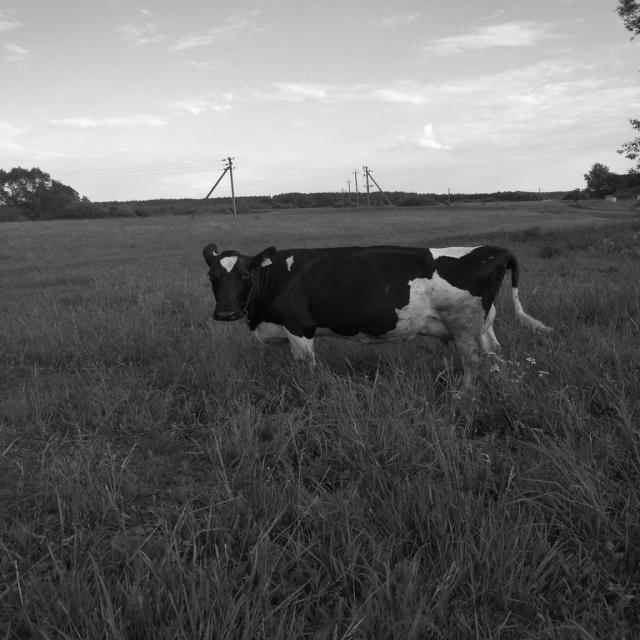cow: (204, 244, 550, 387)
